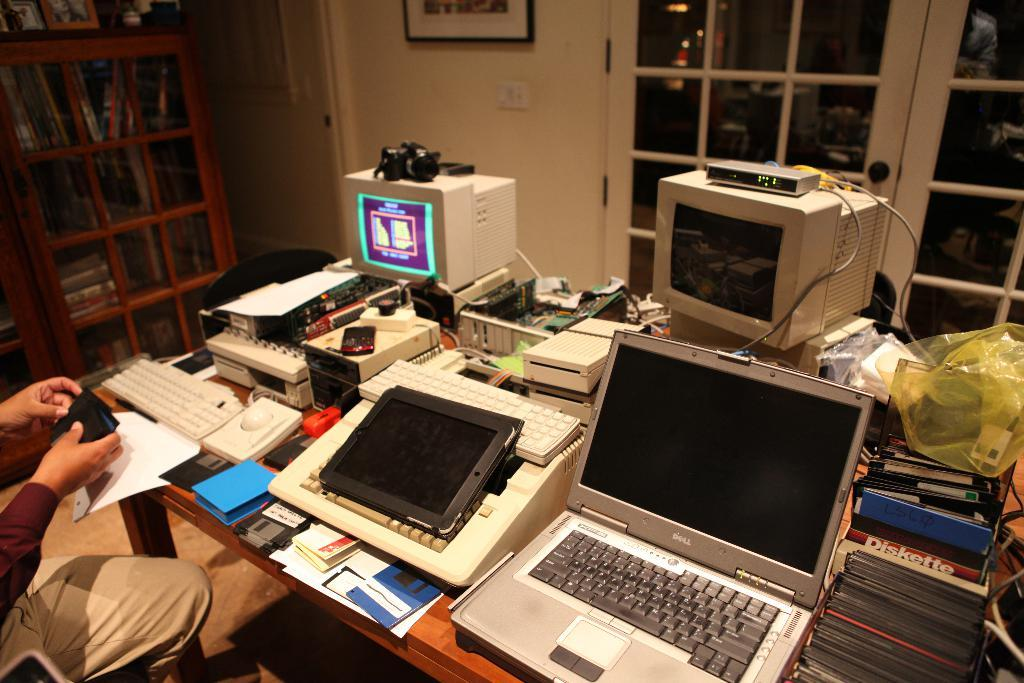Laptop: (454, 349, 867, 683)
